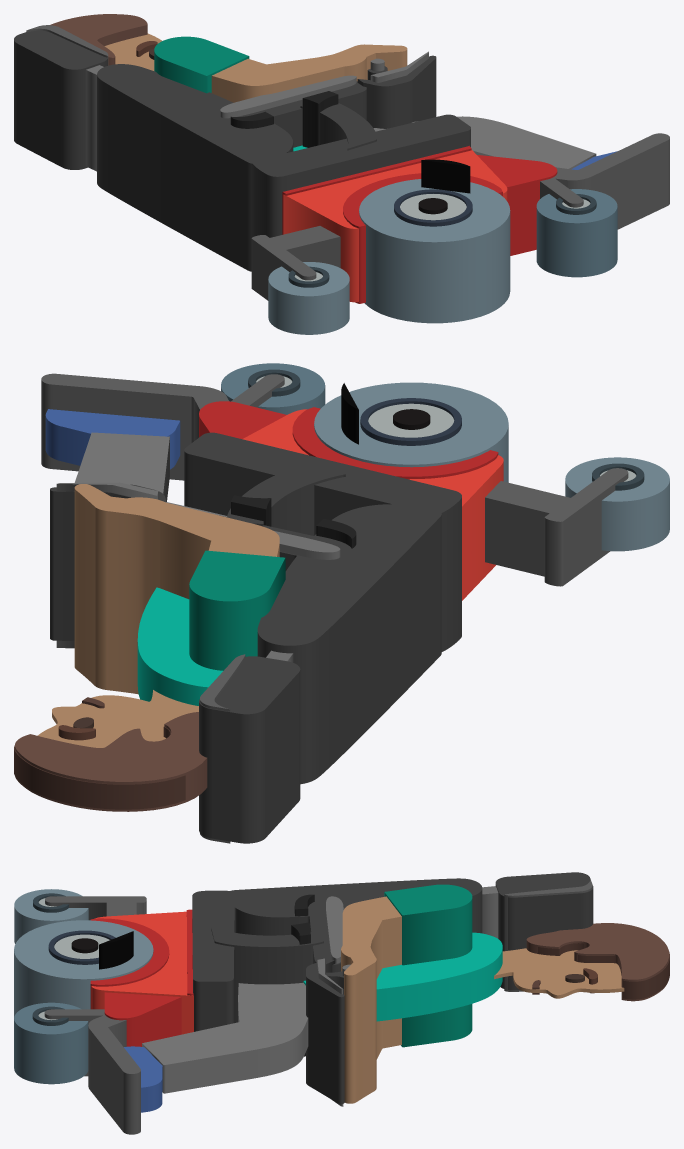
The model's file is emoji_u1f468_1f3fd_200d_1f9bc_200d_27a1.glb.
The picture shows the model from 3 angles, top to bottom: view 1: azimuth 30°, elevation 25°; view 2: azimuth 150°, elevation 25°; view 3: azimuth 270°, elevation 25°; orthographic projection. The views are drawn at different scales.
Parts seen in each view (by area): view 1: emoji_u1f468_1f3fd_200d_1f9bc_200d_27a1; view 2: emoji_u1f468_1f3fd_200d_1f9bc_200d_27a1; view 3: emoji_u1f468_1f3fd_200d_1f9bc_200d_27a1.
Boxes of the visible parts, x1,y1,x2,y2 form: emoji_u1f468_1f3fd_200d_1f9bc_200d_27a1: [14, 14, 669, 334]; emoji_u1f468_1f3fd_200d_1f9bc_200d_27a1: [14, 363, 669, 843]; emoji_u1f468_1f3fd_200d_1f9bc_200d_27a1: [14, 872, 669, 1134].
Bounding box in the file's own units: 0.0237 × 0.0074 × 0.0333.
